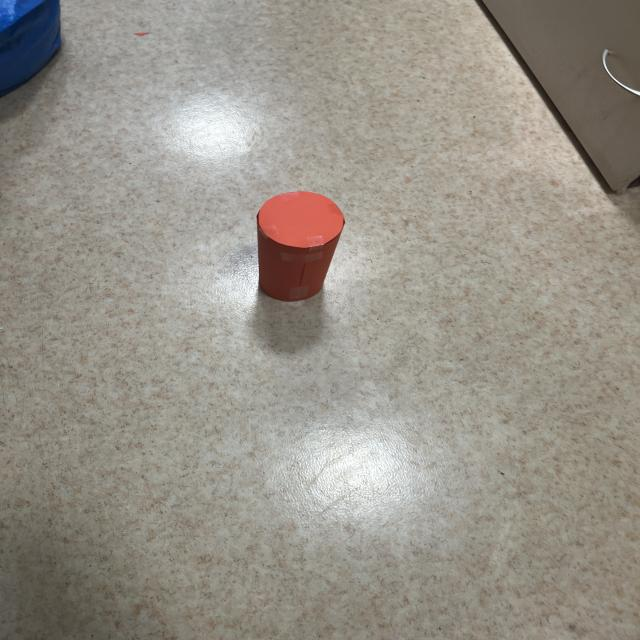przeszkoda: (257, 191, 344, 301)
